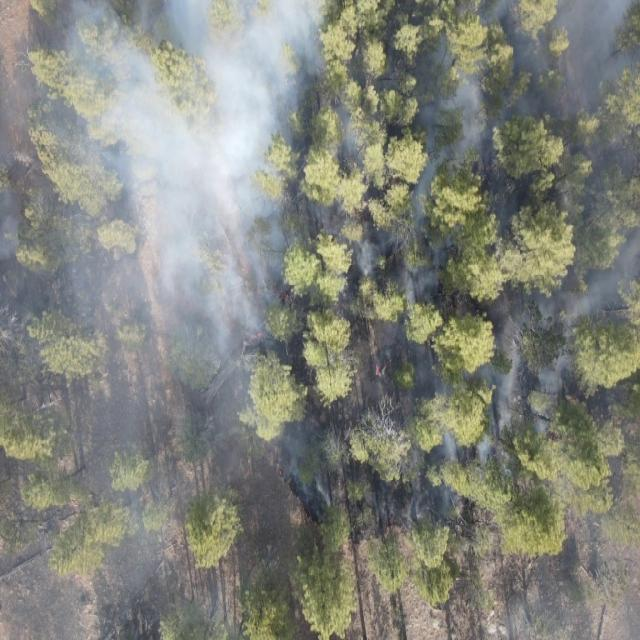fire: (240, 329, 264, 348), (274, 290, 292, 305), (373, 362, 385, 379)
smoke: (0, 0, 321, 640), (320, 0, 562, 526), (561, 0, 640, 435), (517, 509, 640, 640)
